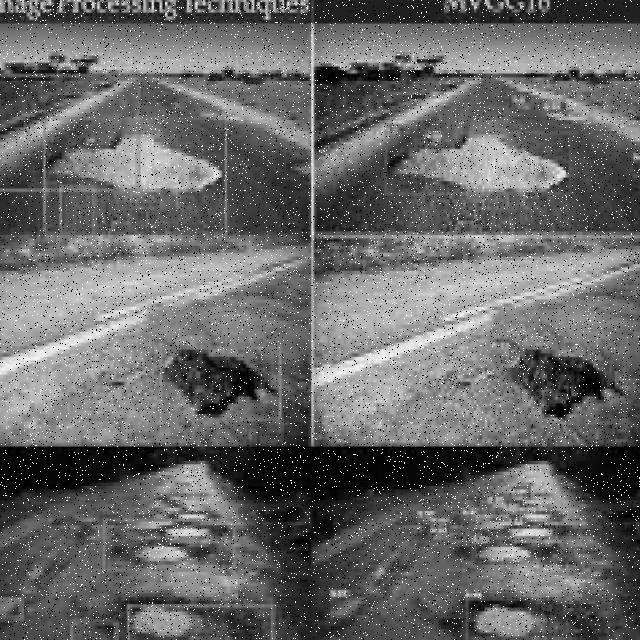pothole: (154, 346, 273, 421), (506, 350, 604, 421), (468, 493, 555, 568), (458, 586, 550, 640)
